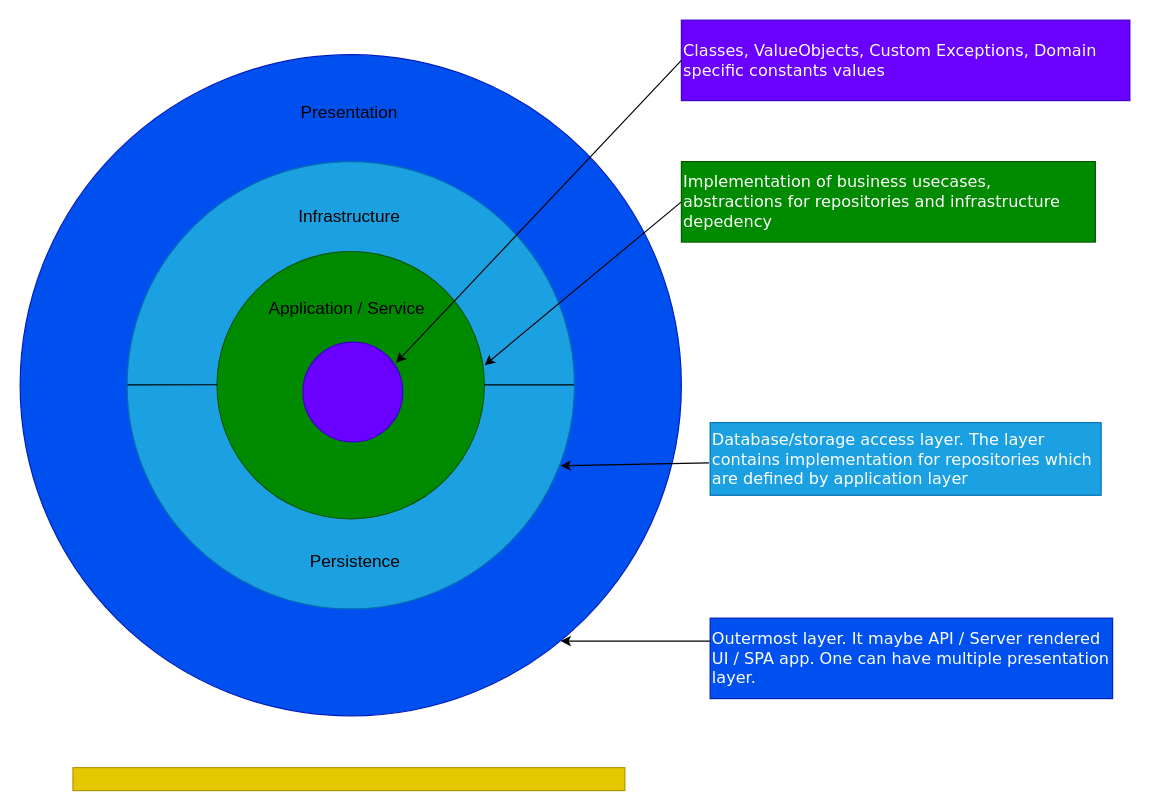
This 1150x811 diagram has some shape labels left out. The shapes that lost their labels are listed below. From the top down, each one's centre as x and y in pixels, then its label:
the point at 352,391: Domain
the point at 348,778: It's important to note that all layer points inwards to domain layer.
